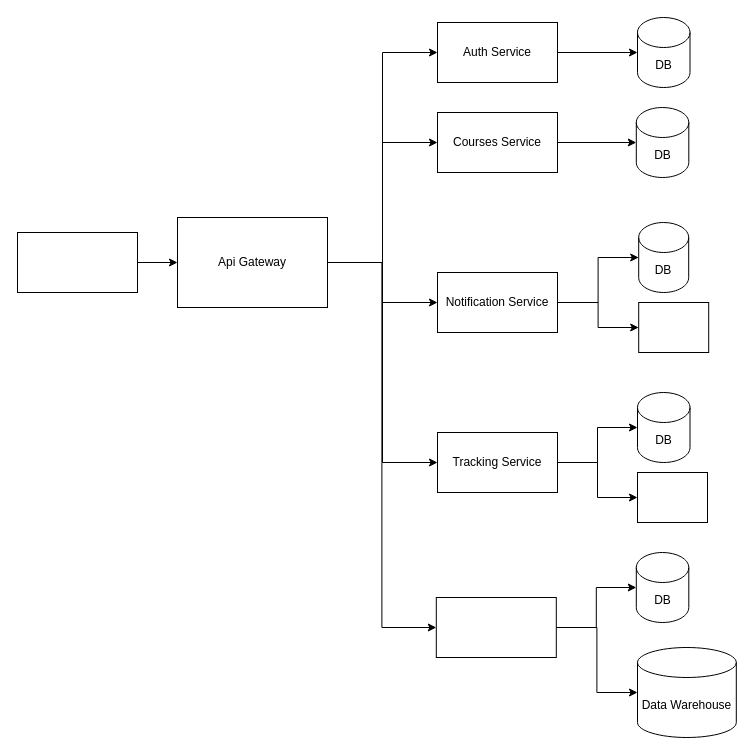
Image size: 754x755. Some labels were removed from this diagram. The shapes that lost their labels are listed below. From the top down, each one's centre as x and y in pixels, then its label:
At point (77, 262): "Frontend React".
At point (673, 327): "Notification Provider".
At point (672, 497): "Tracking Provider".
At point (495, 627): "Data Warehouse Integration Servicie".
